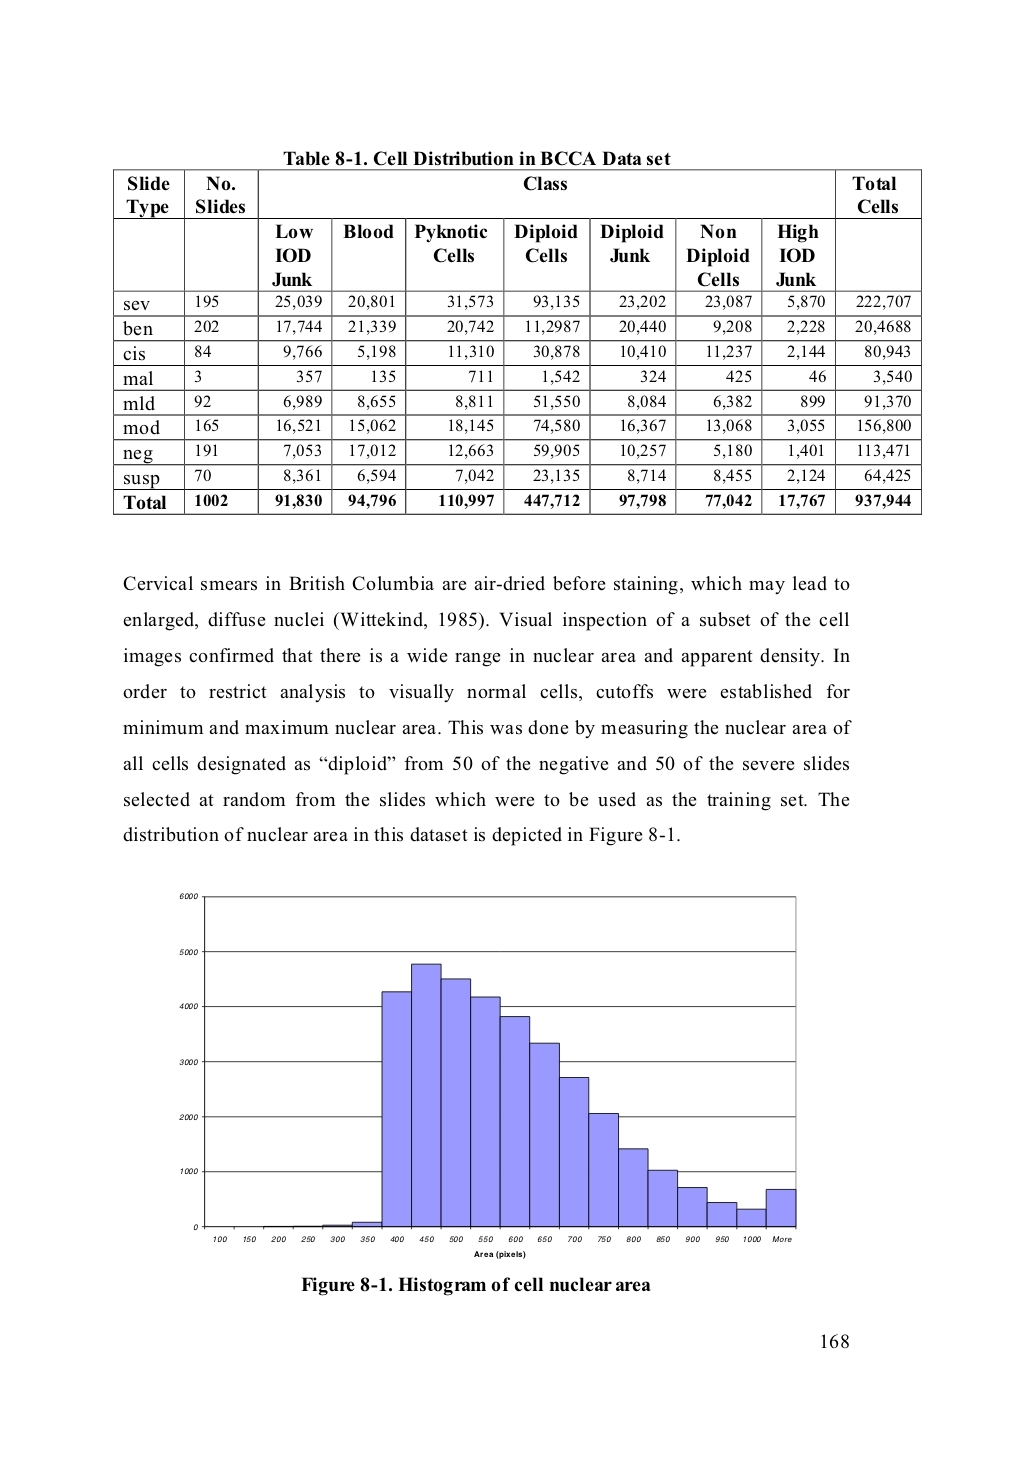Table: (113, 168, 921, 515)
figure: (179, 893, 796, 1258)
